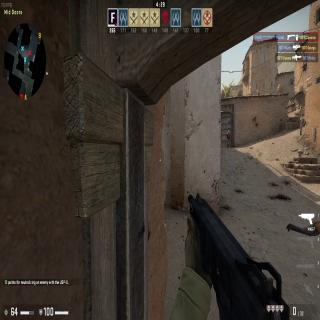CT-Body: (226, 130, 231, 148)
CT-Head: (228, 130, 230, 135)
